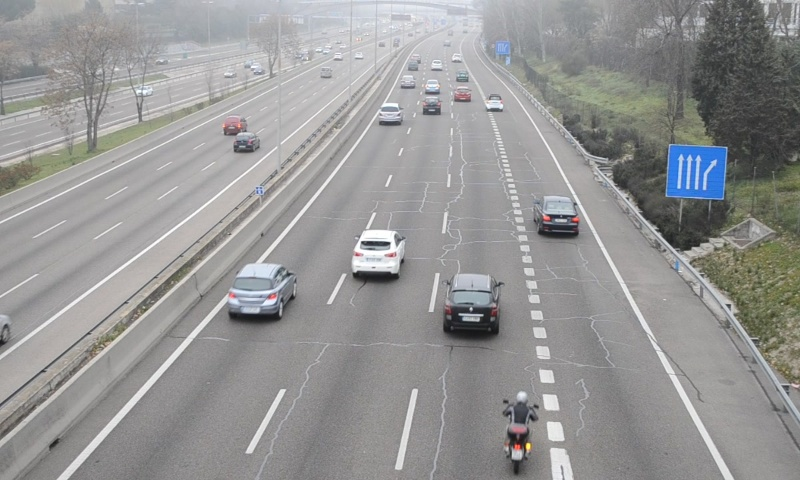car: (227, 264, 294, 319), (444, 273, 500, 336), (352, 229, 406, 280), (533, 195, 578, 234), (378, 103, 404, 126), (484, 92, 504, 112), (423, 95, 442, 114), (454, 86, 472, 103), (424, 78, 441, 95), (399, 74, 416, 90)
motorcycle: (498, 392, 542, 474)
